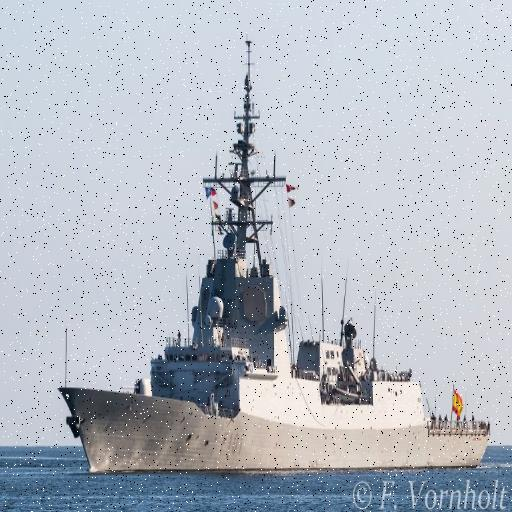Fragata: (59, 31, 492, 483)
